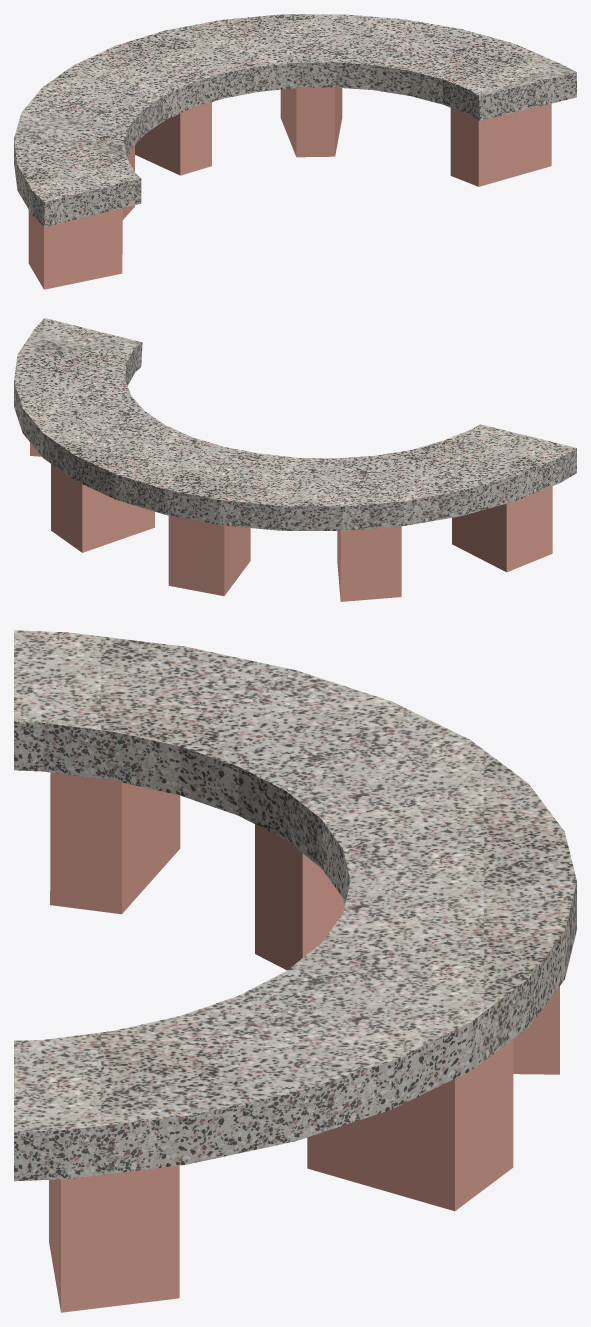
File: sILLA REDONDARomar.fbx
3 renders of one model, top to bottom at view 1: azimuth 30°, elevation 25°; view 2: azimuth 150°, elevation 25°; view 3: azimuth 270°, elevation 25°, orthographic. The views are drawn at different scales.
Visible parts, largest first — view 1: Cylinder.001; view 2: Cylinder.001; view 3: Cylinder.001.
Part boxes in pixels (box(x1,y1,x2,y2)): Cylinder.001: box(14, 14, 576, 289); Cylinder.001: box(14, 318, 576, 601); Cylinder.001: box(14, 630, 576, 1312).
Size of the model in its own units: 528 by 94.47 by 250.
